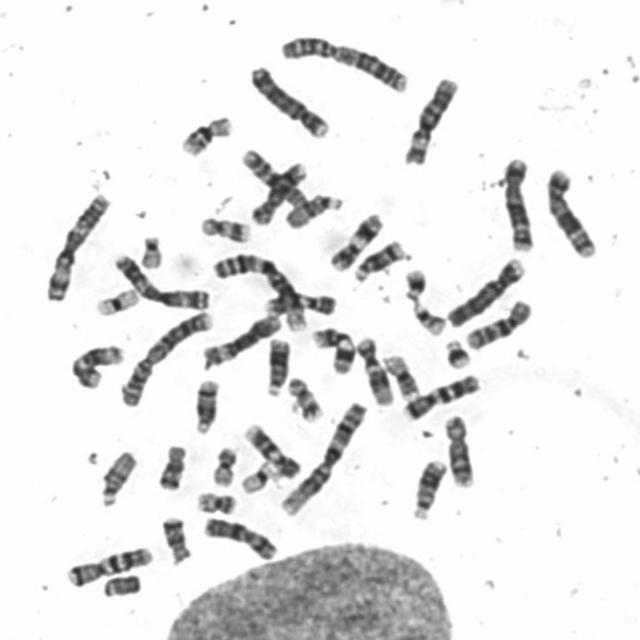A1: (277, 398, 369, 518), (210, 250, 308, 334)
A2: (116, 307, 215, 408), (276, 31, 410, 95)
A3: (39, 188, 112, 304), (109, 250, 211, 310)
B4: (246, 62, 330, 140), (444, 252, 526, 330)
B5: (543, 165, 599, 259), (500, 153, 535, 254)
C10: (240, 151, 313, 219), (461, 296, 533, 351)
C11: (326, 210, 384, 273), (309, 323, 357, 377)
C12: (354, 334, 396, 406), (67, 340, 125, 390)
C6: (398, 74, 460, 167), (198, 311, 283, 369)
C7: (61, 542, 155, 588), (399, 371, 480, 422)
C8: (247, 159, 309, 226), (441, 412, 476, 488)
C9: (240, 420, 301, 480), (261, 289, 338, 318)
D13: (406, 455, 448, 520), (262, 335, 292, 396)
D14: (350, 237, 407, 284), (190, 376, 222, 435)
D15: (96, 447, 138, 508), (281, 190, 344, 230)
E16: (176, 112, 235, 158), (379, 351, 421, 400)
E17: (284, 373, 324, 422), (195, 213, 253, 245)
E18: (158, 512, 193, 567), (154, 441, 189, 493)
F19: (236, 456, 279, 496), (91, 285, 140, 317)
F20: (210, 443, 240, 489), (193, 489, 240, 515)
G21: (441, 336, 472, 370), (401, 264, 428, 302)
G22: (407, 298, 448, 336), (136, 232, 166, 270)
X: (200, 512, 280, 561)
Y: (99, 571, 143, 598)
